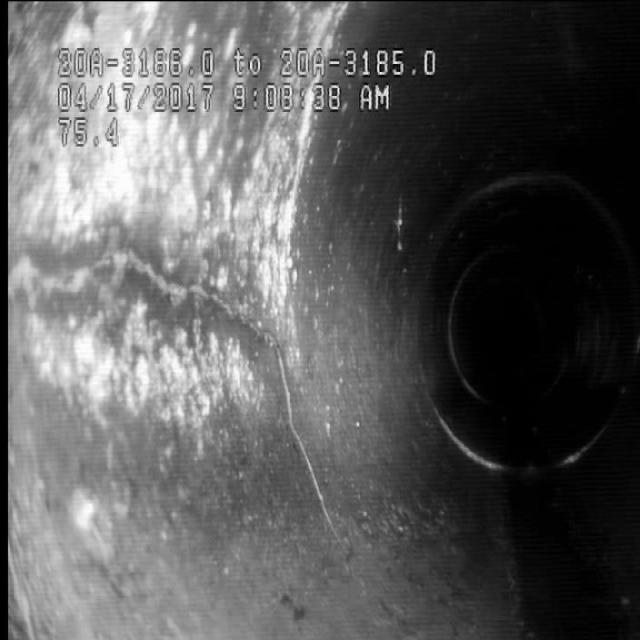Crack: (38, 172, 288, 398)
